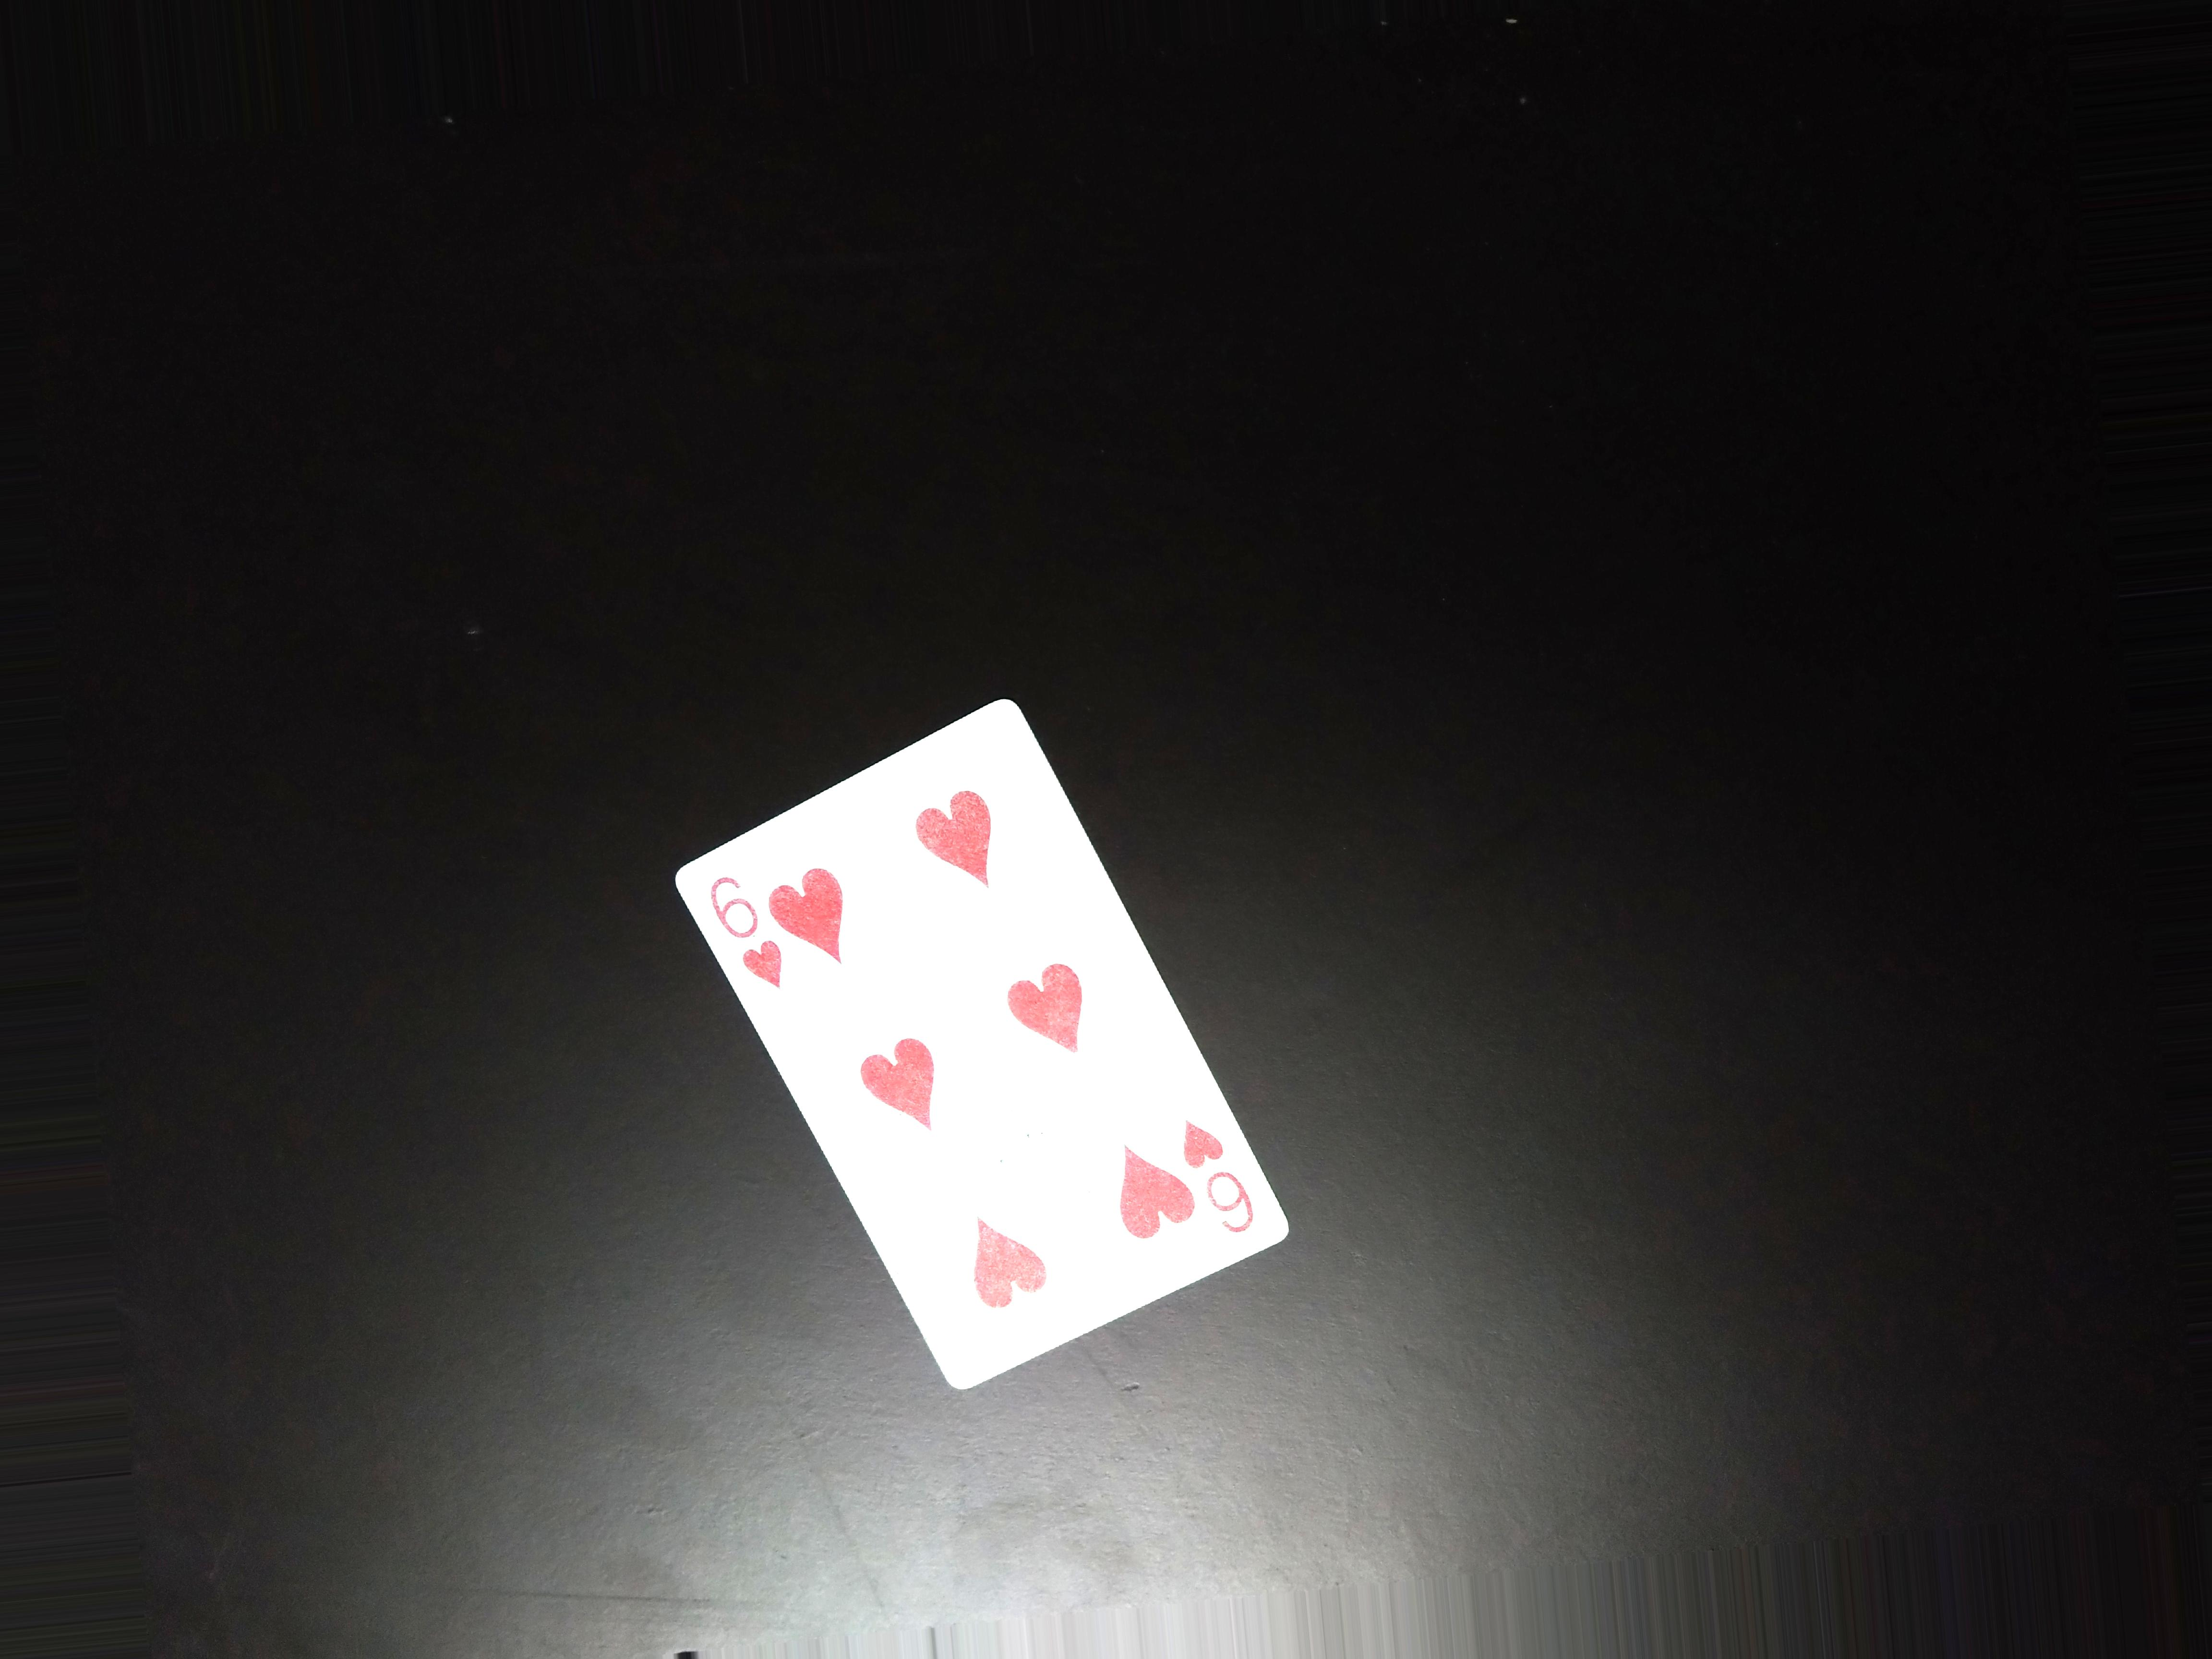6H: (688, 863, 780, 992)
